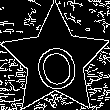O_N: (28, 29, 83, 92)
